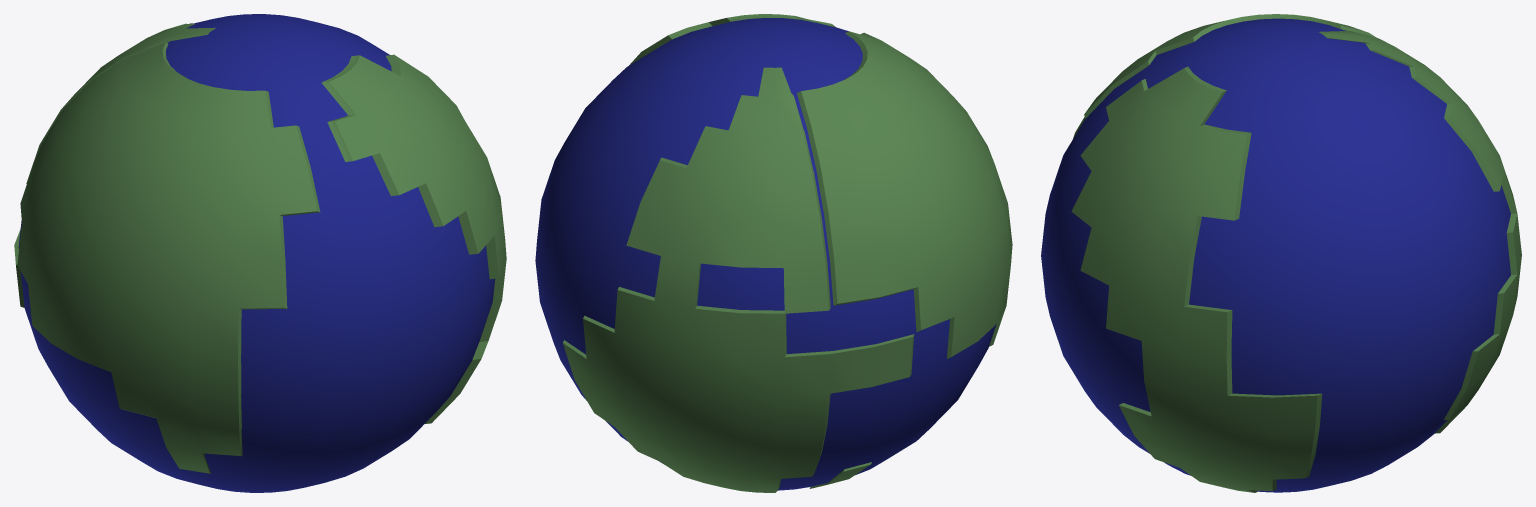
The picture shows the model from 3 angles, left to right: view 1: azimuth 30°, elevation 25°; view 2: azimuth 150°, elevation 25°; view 3: azimuth 270°, elevation 25°; orthographic projection.
Visible parts, largest first — view 1: Sphere, Sphere.001; view 2: Sphere, Sphere.001; view 3: Sphere.001, Sphere.
Part boxes in pixels (left/top/right/bottom): Sphere: left=14, top=23, right=506, bottom=473; Sphere.001: left=18, top=14, right=495, bottom=492; Sphere: left=563, top=14, right=1012, bottom=492; Sphere.001: left=535, top=18, right=996, bottom=490; Sphere.001: left=1041, top=18, right=1510, bottom=492; Sphere: left=1071, top=14, right=1521, bottom=492.
Size of the model in its own units: 7.08 by 6.96 by 7.06.
